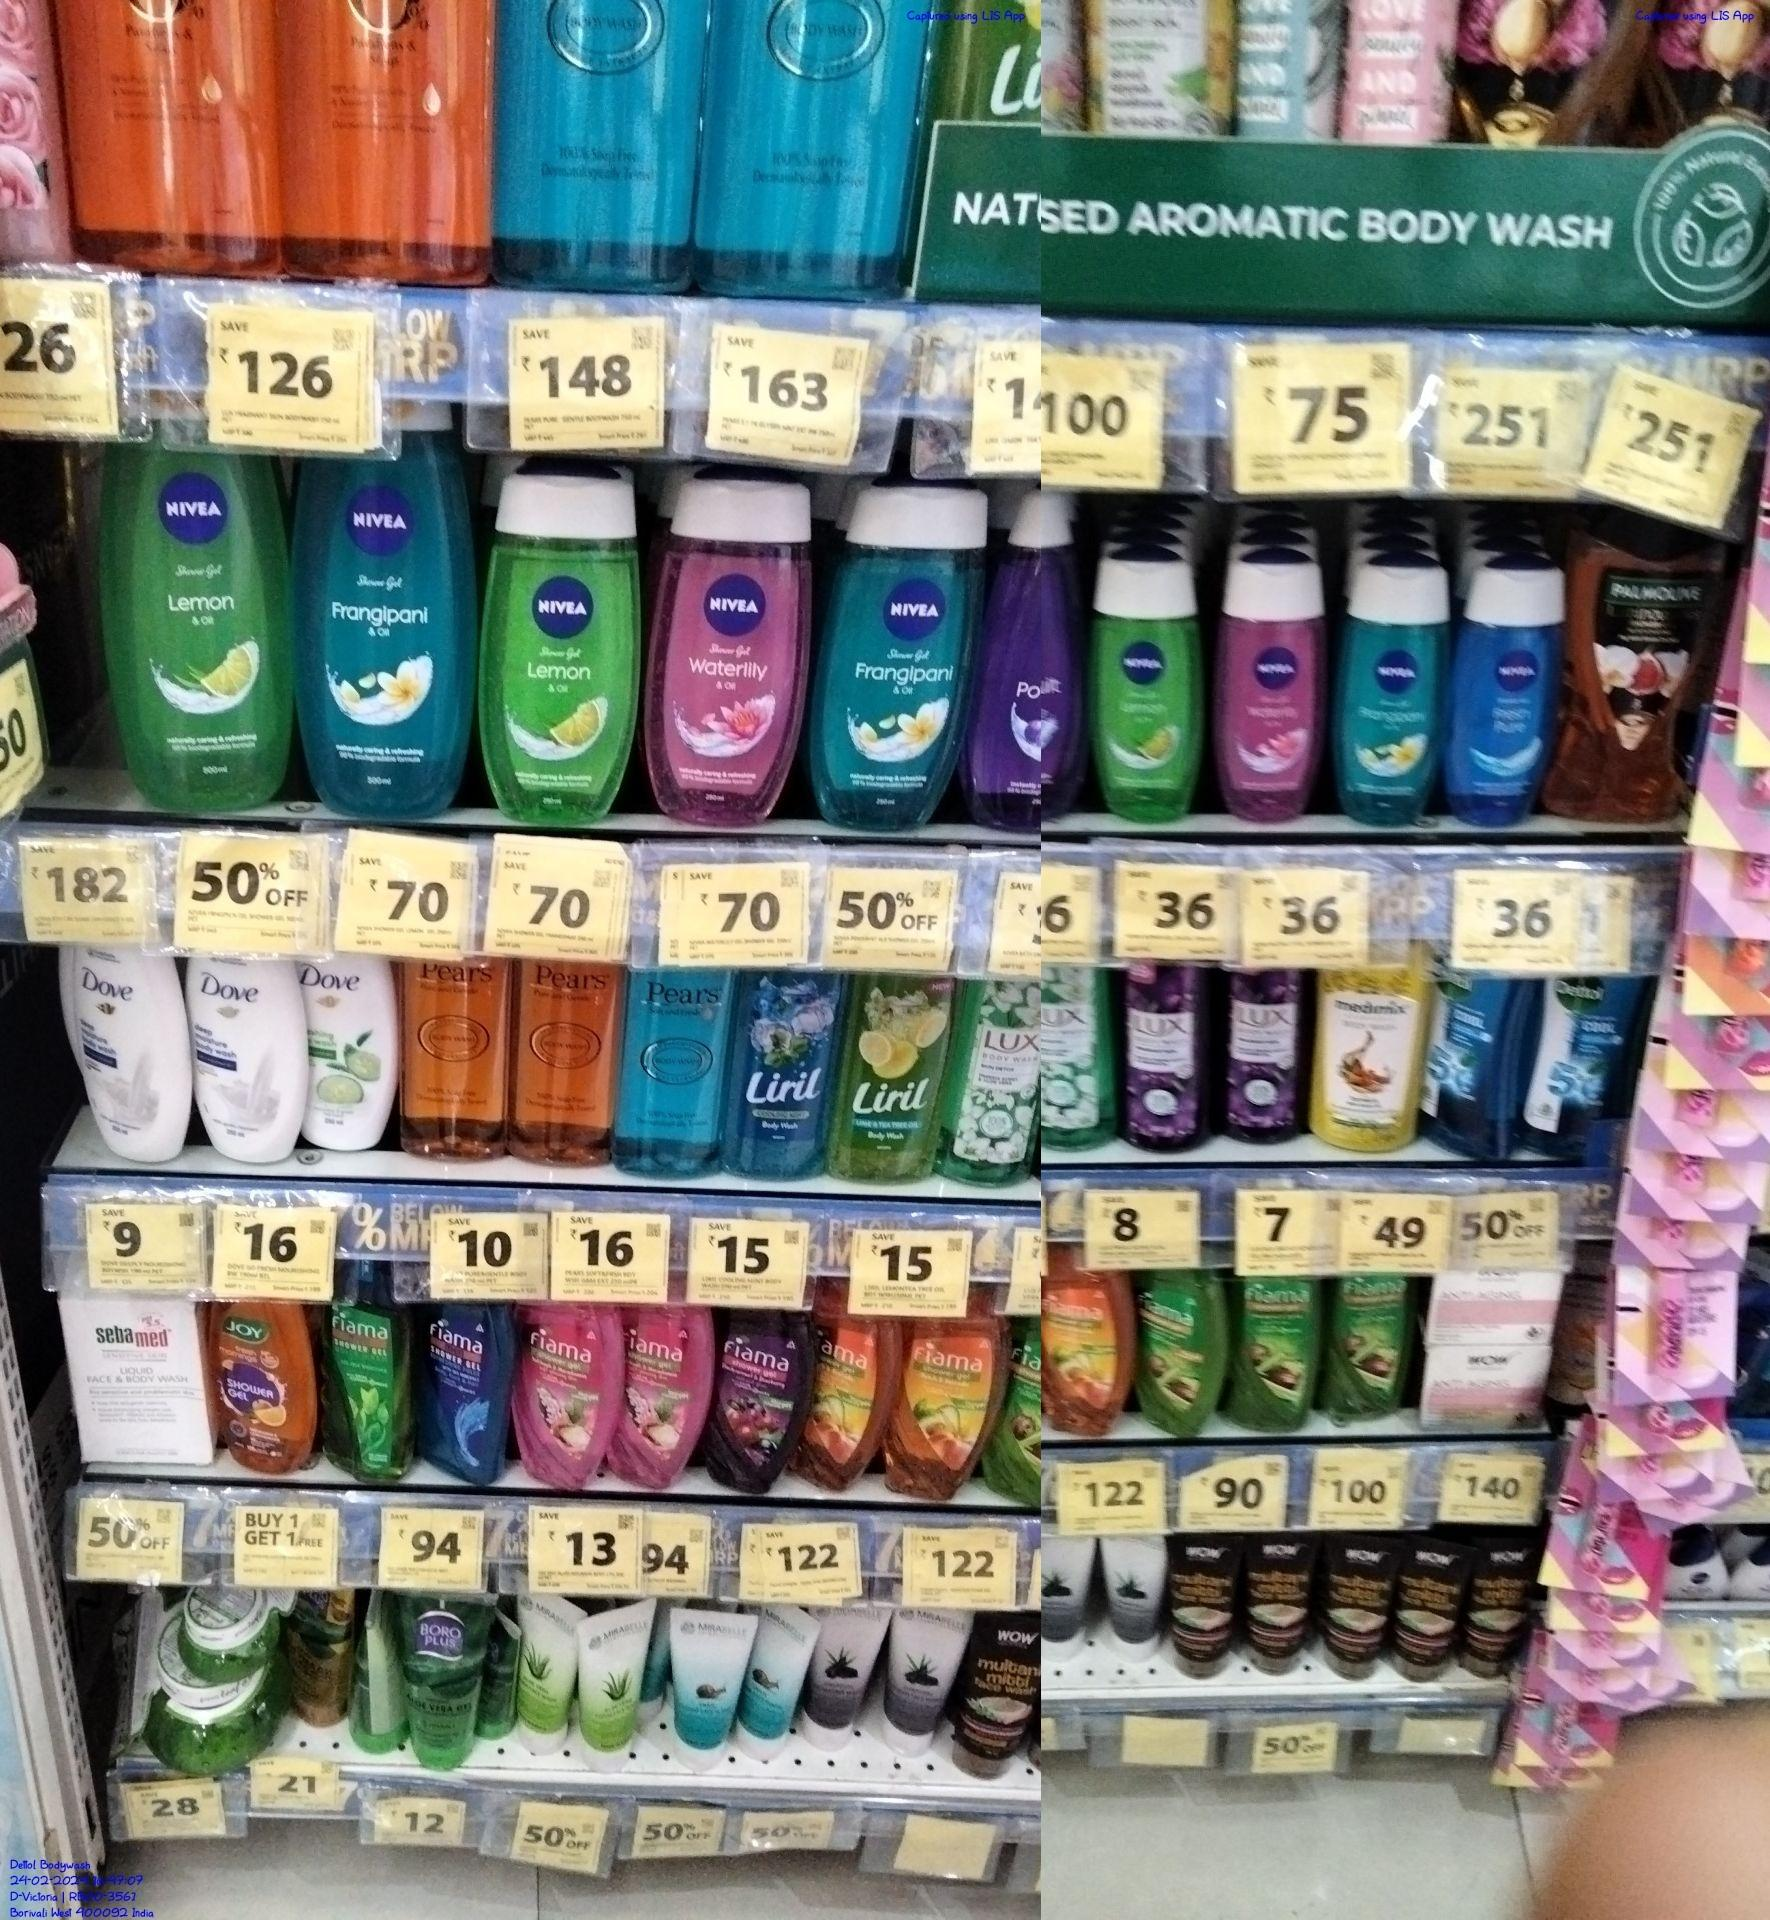Dettol_Bodywash_Cool: (1527, 973, 1628, 1159), (1430, 967, 1507, 1164)
Dove_Deep_Moisture_Body_Wash_250ML: (79, 948, 191, 1154), (202, 953, 306, 1162)
Dove_Refreshing_Body_Wash_250ML: (316, 955, 400, 1171)
Fiama_Shower_Gel_Lemongrass_and_Jojoba_250ML: (1139, 1276, 1223, 1437), (1238, 1271, 1317, 1430), (1330, 1271, 1410, 1423)
Fiama_Shower_Gel_Patchouli_and_Macadamia_250ML: (524, 1288, 617, 1489), (621, 1300, 713, 1487)
Fiama_Shower_Gel_Peach_and_Avocado_250ML: (801, 1313, 893, 1490), (900, 1320, 985, 1494), (1044, 1271, 1129, 1430)
Joy_Shower_Gel_Mandarin_and_Lemongrass_250ML: (216, 1300, 318, 1472)
Liril_Cooling_Mint_Body_Wash_250ML: (736, 973, 831, 1182)
Liril_Lime_and_Tea_Tree_Oil_Body_Wash_250ML: (845, 982, 950, 1179)
Lux_Black_Orchid_Scent_and_Juniper_Oil_Body_Wash_245ML: (1216, 958, 1303, 1142), (1123, 967, 1208, 1152)
Lux_Body_Wash_Skin_Detox_Freesia_Scent_and_Alove_Vera_245ML: (960, 973, 1026, 1189), (1042, 960, 1106, 1157)
Nivea_Shower_Gel_Frangipani_and_Oil_250ML: (816, 493, 972, 830), (325, 460, 467, 814)
Nivea_Shower_Gel_Lemon_and_Oil_250ML: (102, 418, 304, 818), (472, 453, 634, 835)
Nivea_Shower_Gel_Waterlily_and_Oil_250ML: (651, 495, 806, 831)
Palmolive_Luminous_Oils_With_White_Orchid_Shower_Gel_250ML: (1553, 535, 1696, 830)
Pears_Pure_Glycerin_and_Mint_Extracts_Body_Wash_250ML: (621, 962, 728, 1189)
